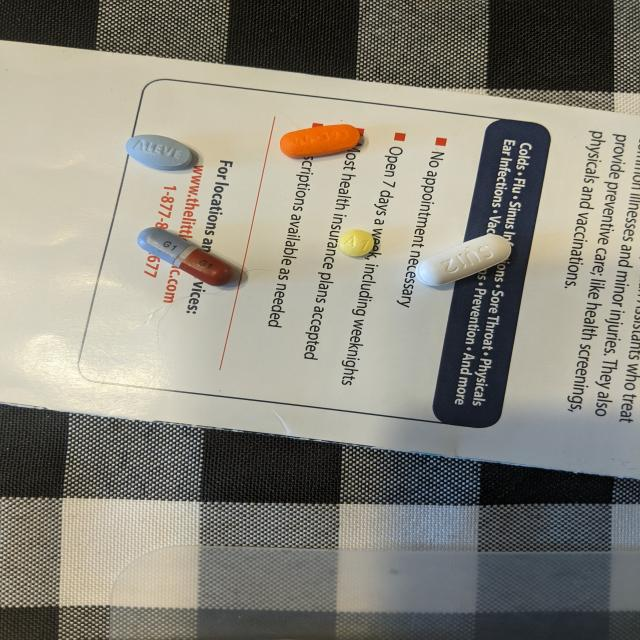non-organic waste: (136, 226, 236, 288), (414, 232, 514, 288), (279, 124, 362, 159), (124, 134, 194, 171), (337, 228, 375, 258)
